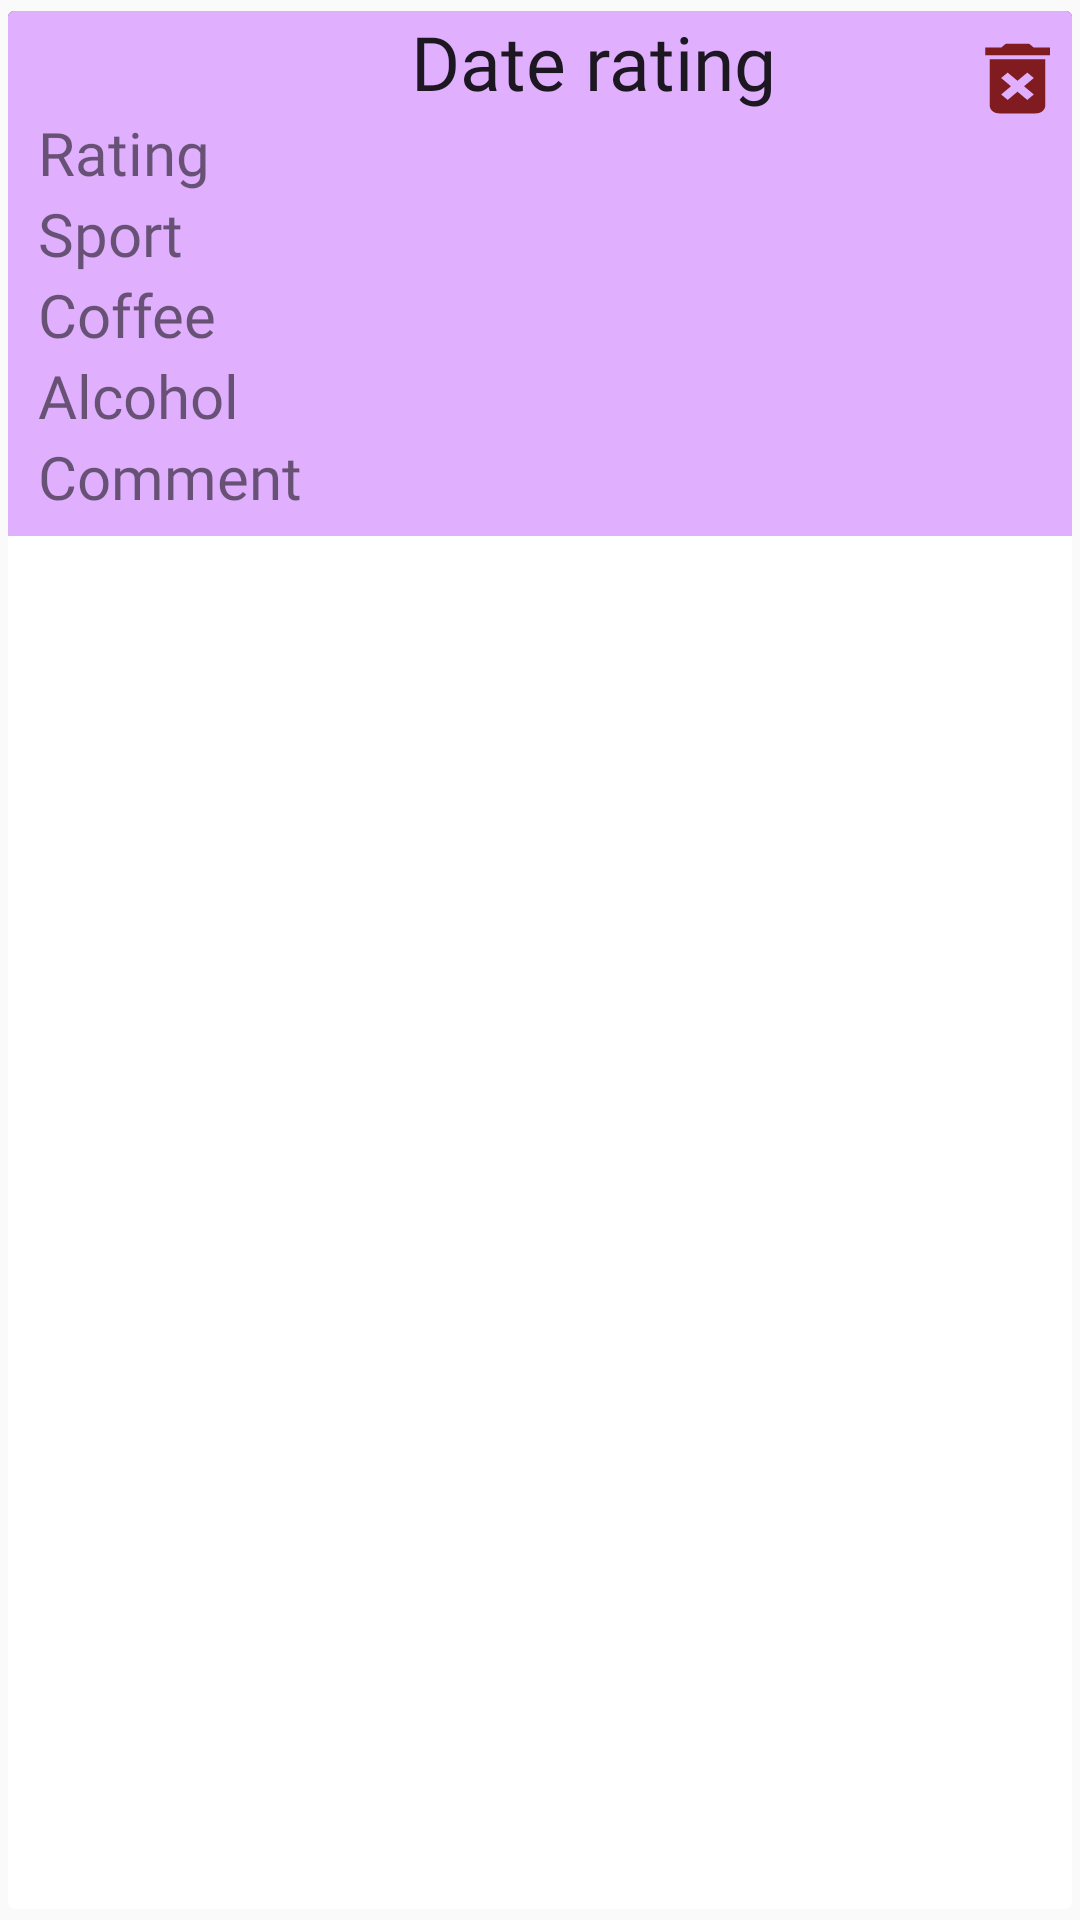

Locate icon controls on the screen. Image size 1080×1920, boxes as (x1, y1, x2, y2).
delete forever: (985, 43, 1050, 114)
